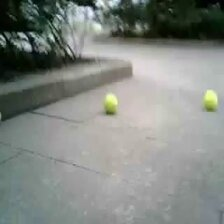tennis: (204, 89, 218, 109), (104, 95, 118, 114)
